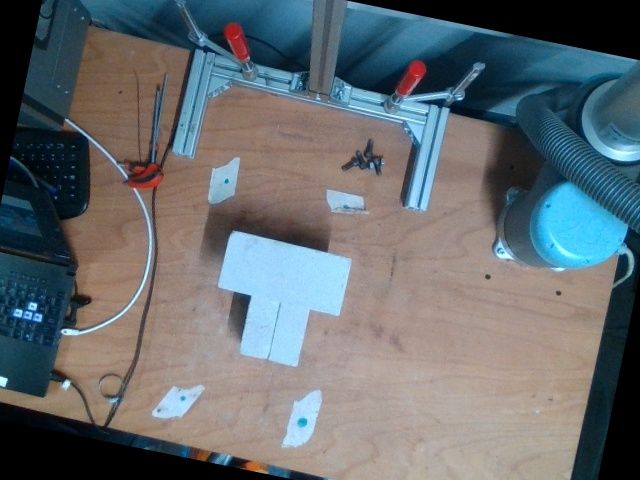brick: (216, 230, 350, 314)
